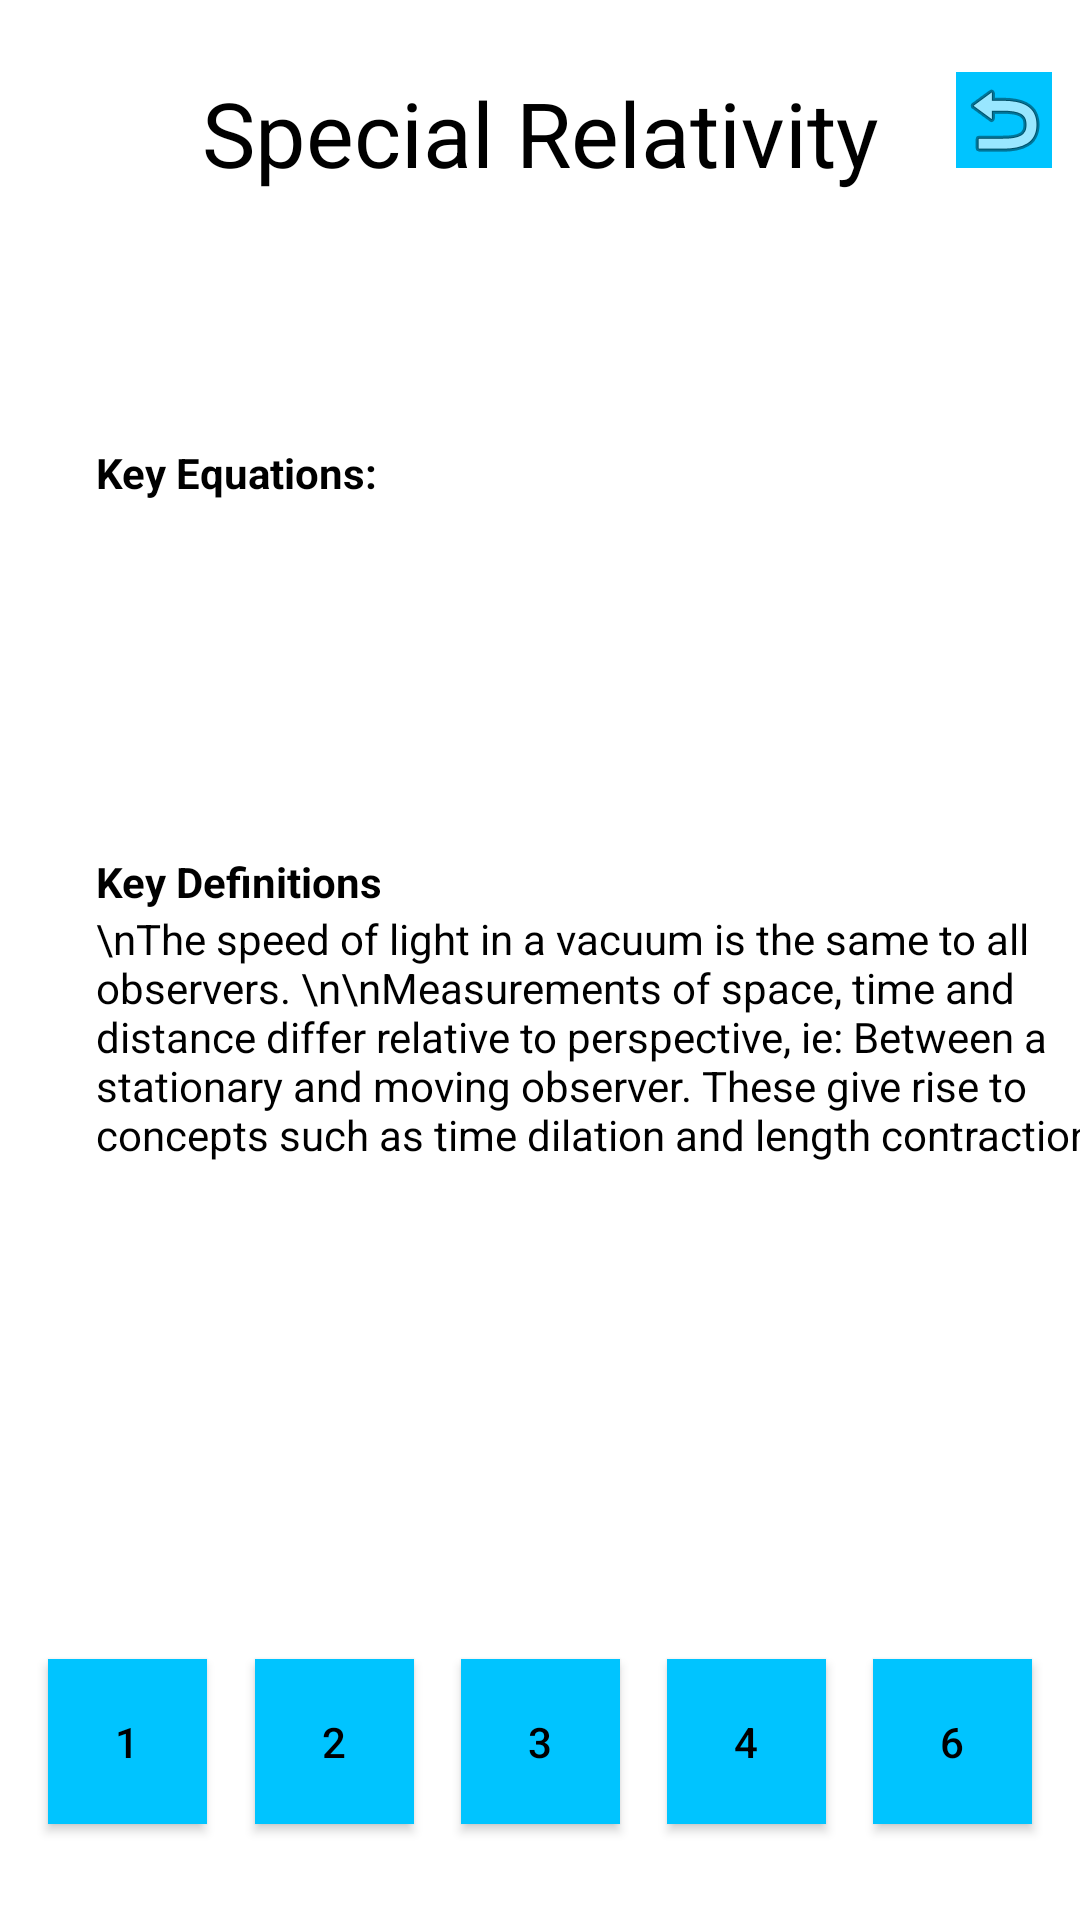

Icons on this 1080*1920 Android screen, each with its box as [left=x1, top=y1, right=x2, bottom=y2]:
revert: [left=956, top=72, right=1052, bottom=168]
